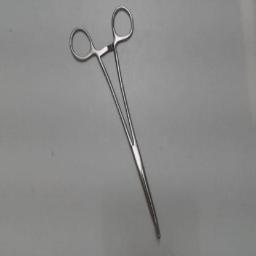Lahey Forceps: (66, 2, 164, 244)
